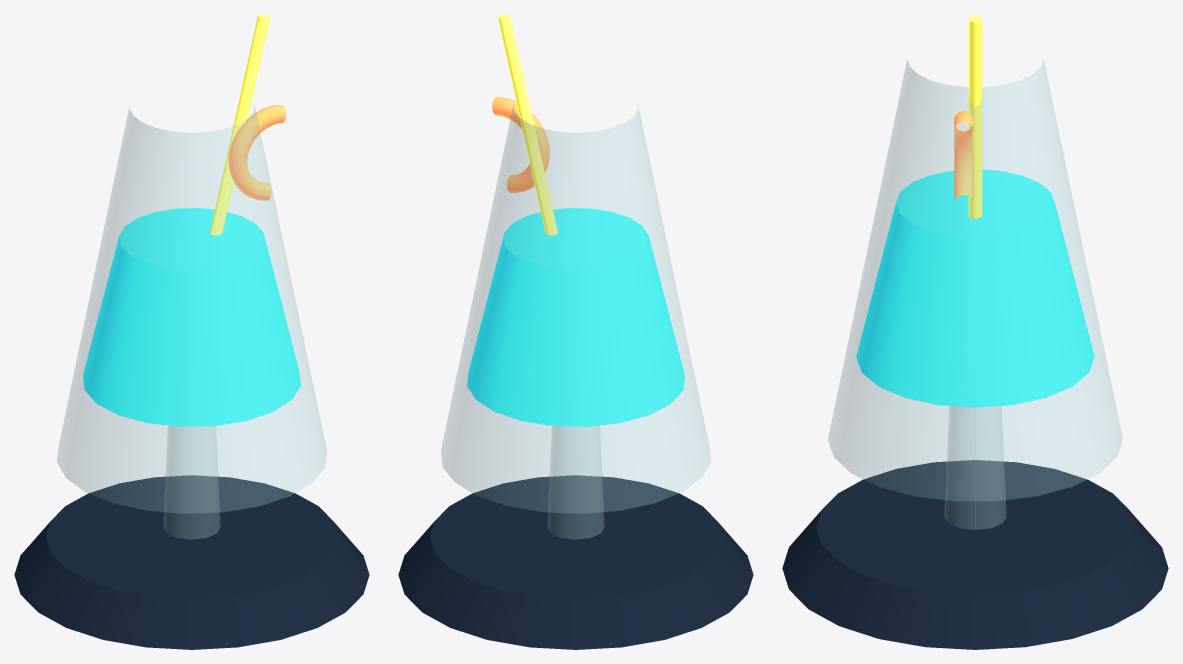
The model's file is cocktail.glb.
3 renders of one model, left to right at view 1: azimuth 30°, elevation 25°; view 2: azimuth 150°, elevation 25°; view 3: azimuth 270°, elevation 25°, orthographic. The views are drawn at different scales.
Visible parts, largest first — view 1: CocktailAsset; view 2: CocktailAsset; view 3: CocktailAsset.
Boxes of the visible parts, x1,y1,x2,y2 form: CocktailAsset: (14, 14, 369, 649); CocktailAsset: (398, 14, 753, 649); CocktailAsset: (782, 14, 1168, 649).
Bounding box in the file's own units: 0.68 × 1.15 × 0.68.
